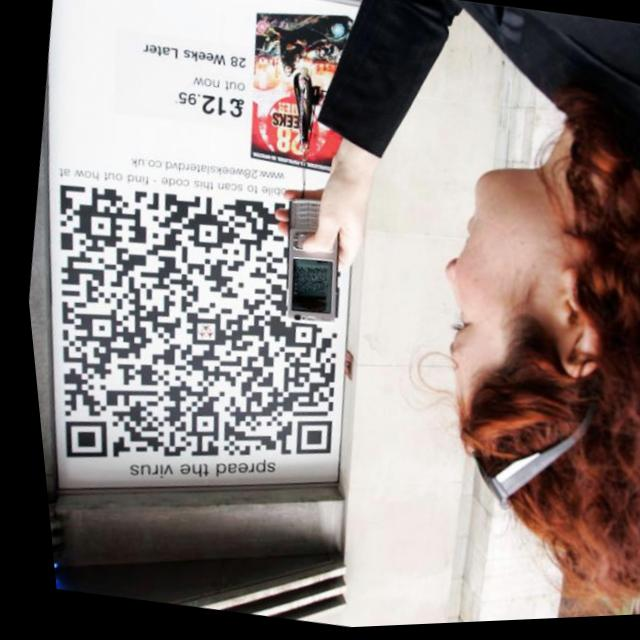qrcode: (14, 165, 365, 503), (285, 266, 324, 302)
